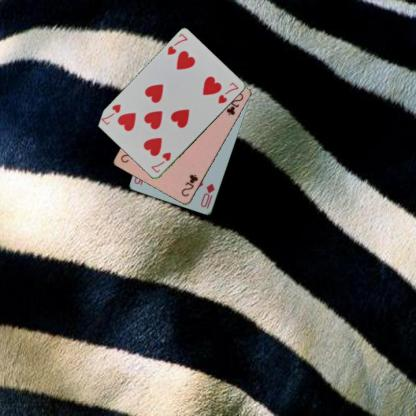10d: (198, 181, 216, 208)
2c: (178, 172, 200, 198)
7h: (165, 31, 189, 57), (149, 150, 172, 174)
